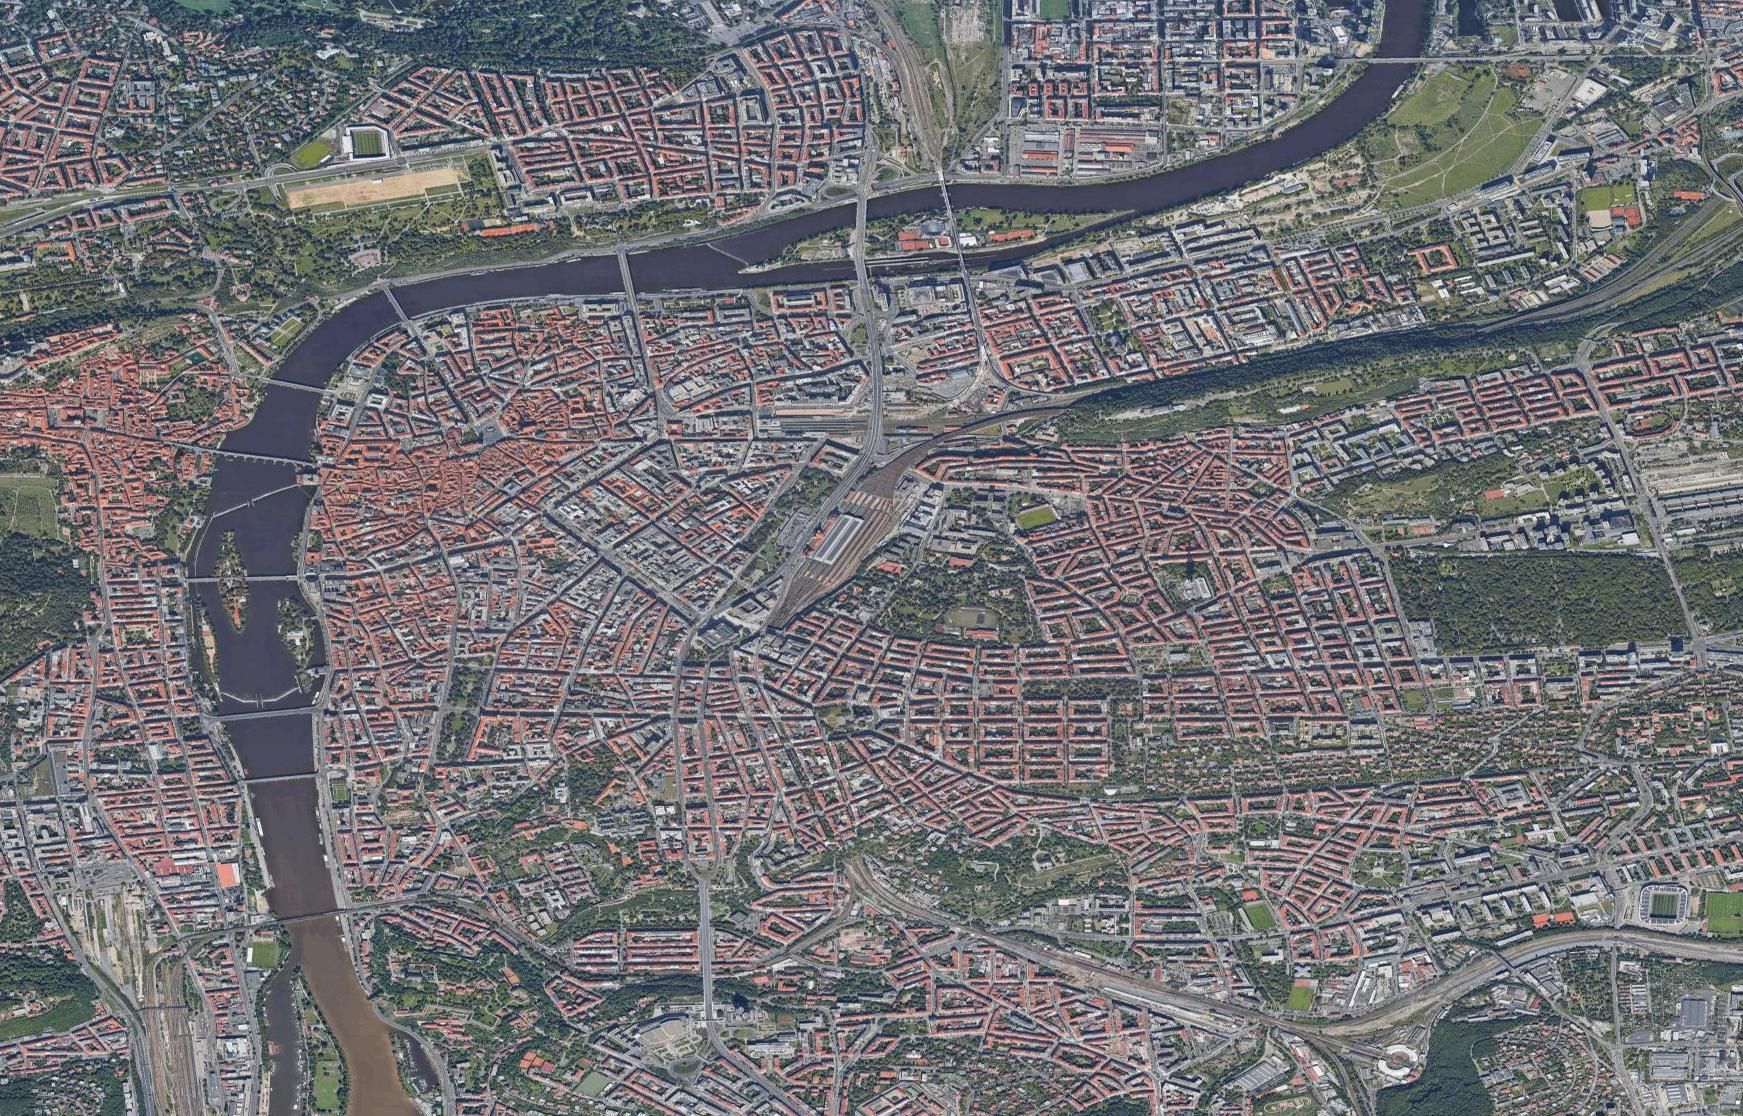bridge: (212, 704, 320, 730), (375, 278, 412, 329), (236, 769, 315, 791), (260, 372, 330, 397), (609, 243, 638, 295), (272, 910, 343, 930), (240, 571, 295, 586), (850, 194, 871, 228), (938, 174, 957, 211), (1373, 52, 1422, 66), (180, 575, 219, 585)
train_station: (784, 466, 905, 601)
